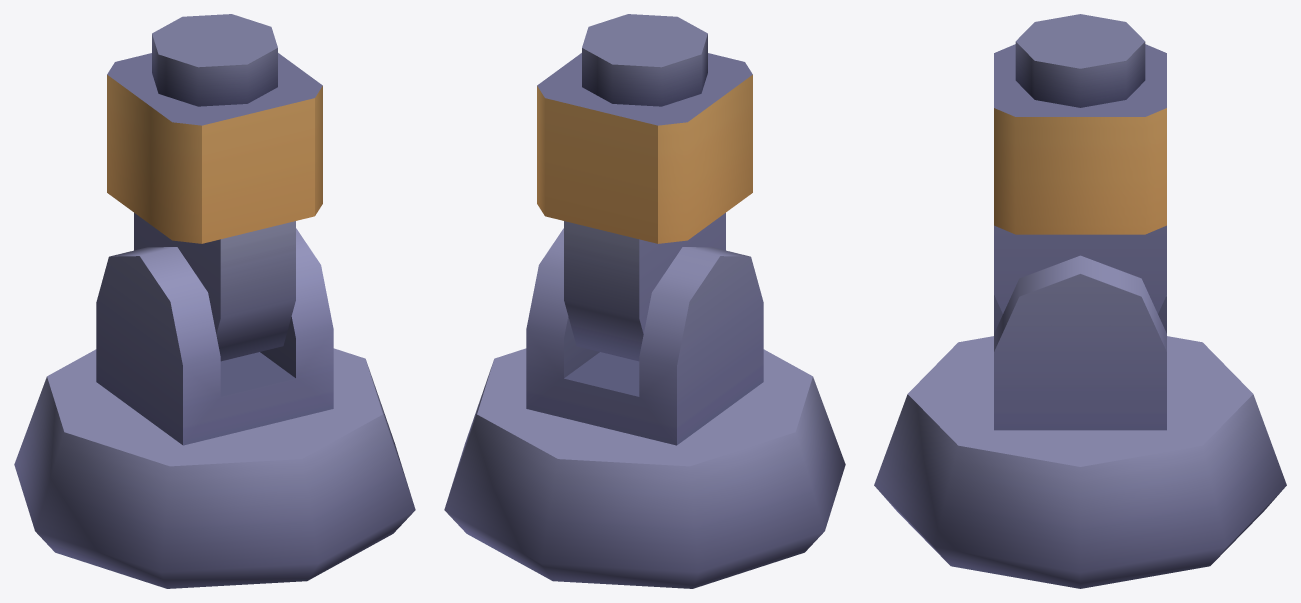
The model's file is magnet.glb.
The picture shows the model from 3 angles, left to right: view 1: azimuth 30°, elevation 25°; view 2: azimuth 150°, elevation 25°; view 3: azimuth 270°, elevation 25°; orthographic projection.
Parts seen in each view (by area): view 1: crane-magnet; view 2: crane-magnet; view 3: crane-magnet.
Part boxes in pixels (x1=…): crane-magnet: x1=14, y1=14, x2=415, y2=588; crane-magnet: x1=444, y1=14, x2=845, y2=588; crane-magnet: x1=874, y1=14, x2=1286, y2=588.
Size of the model in its own units: 0.7166 by 0.9 by 0.7166.
1 material, 1 textured.
